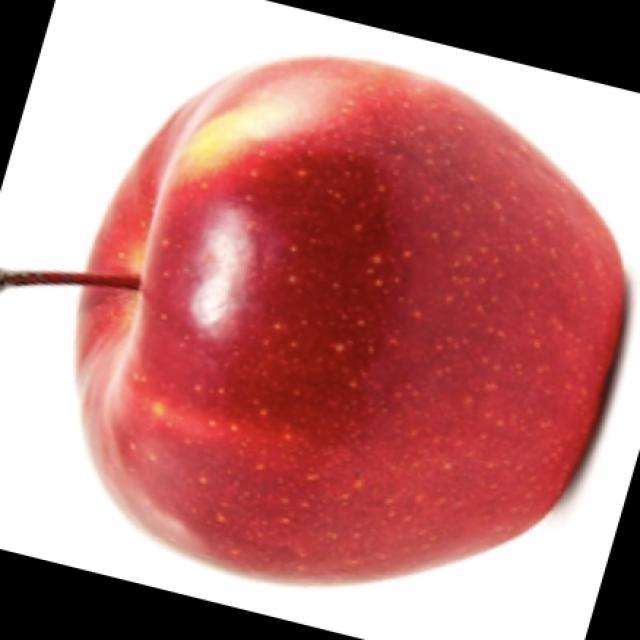Fresh Apple: (78, 62, 627, 590)
